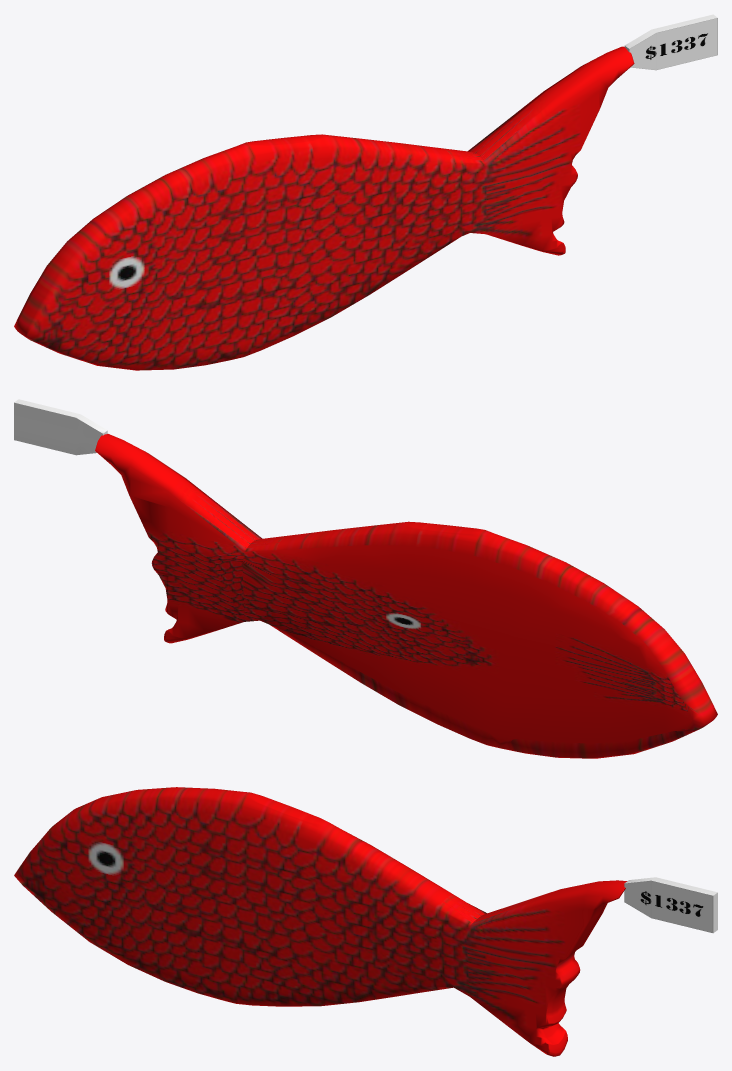
File: FishAnimated.fbx
3 renders of one model, top to bottom at view 1: azimuth 30°, elevation 25°; view 2: azimuth 150°, elevation 25°; view 3: azimuth 330°, elevation 25°, orthographic.
Visible parts, largest first — view 1: FishBody, FishPriceTag; view 2: FishBody, FishPriceTag; view 3: FishBody, FishPriceTag.
Boxes of the visible parts, x1,y1,x2,y2 form: FishBody: (14,46,634,370); FishPriceTag: (624,14,717,70); FishBody: (95,434,717,758); FishPriceTag: (14,399,107,455); FishBody: (14,787,627,1056); FishPriceTag: (624,877,717,933).
Bounding box in the file's own units: 11.51 × 3.57 × 0.643.
